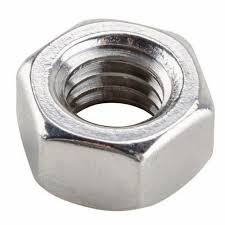Thread: (31, 27, 198, 141)
